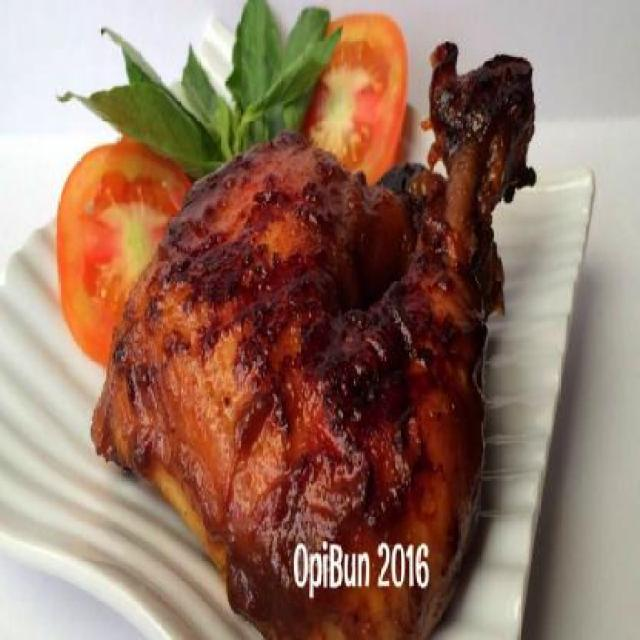Frango: (89, 36, 560, 581)
